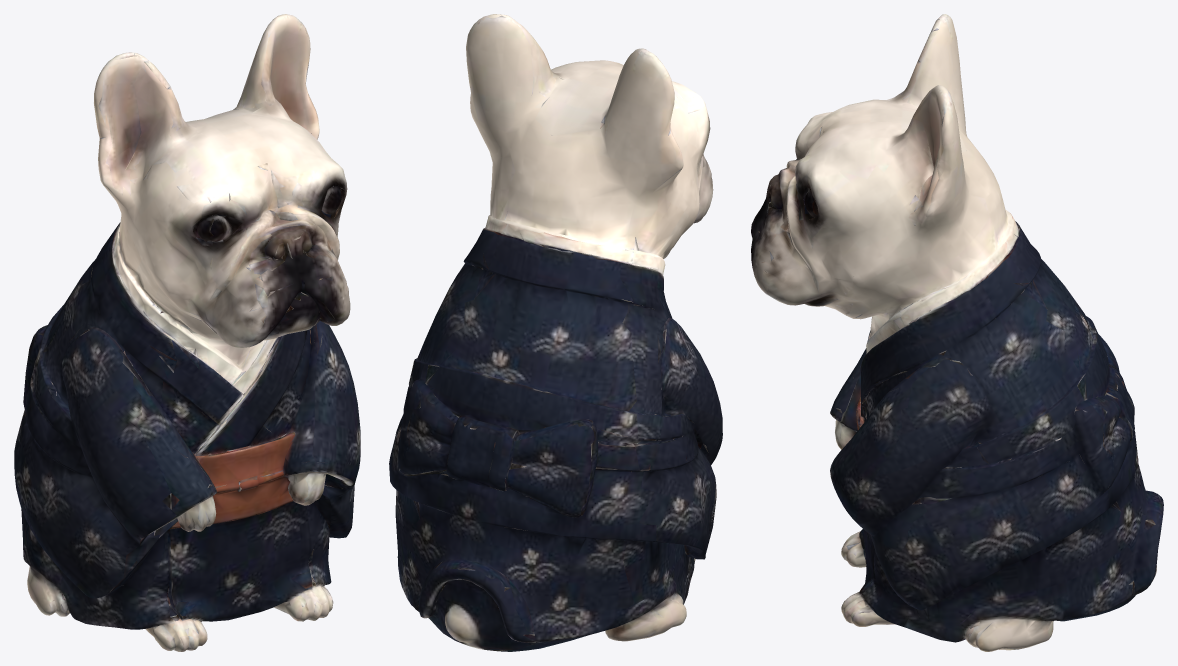
The model's file is villager_6_lite.glb.
3 renders of one model, left to right at view 1: azimuth 30°, elevation 25°; view 2: azimuth 150°, elevation 25°; view 3: azimuth 270°, elevation 25°, orthographic. The views are drawn at different scales.
Parts seen in each view (by area): view 1: Mesh_0; view 2: Mesh_0; view 3: Mesh_0.
Boxes of the visible parts, box(x1,y1,x2,y2) form: Mesh_0: box(14, 14, 360, 651); Mesh_0: box(389, 14, 722, 651); Mesh_0: box(751, 14, 1163, 651).
Size of the model in its own units: 1.06 by 1.9 by 1.32.
Materials: 1 (1 with a texture image).
